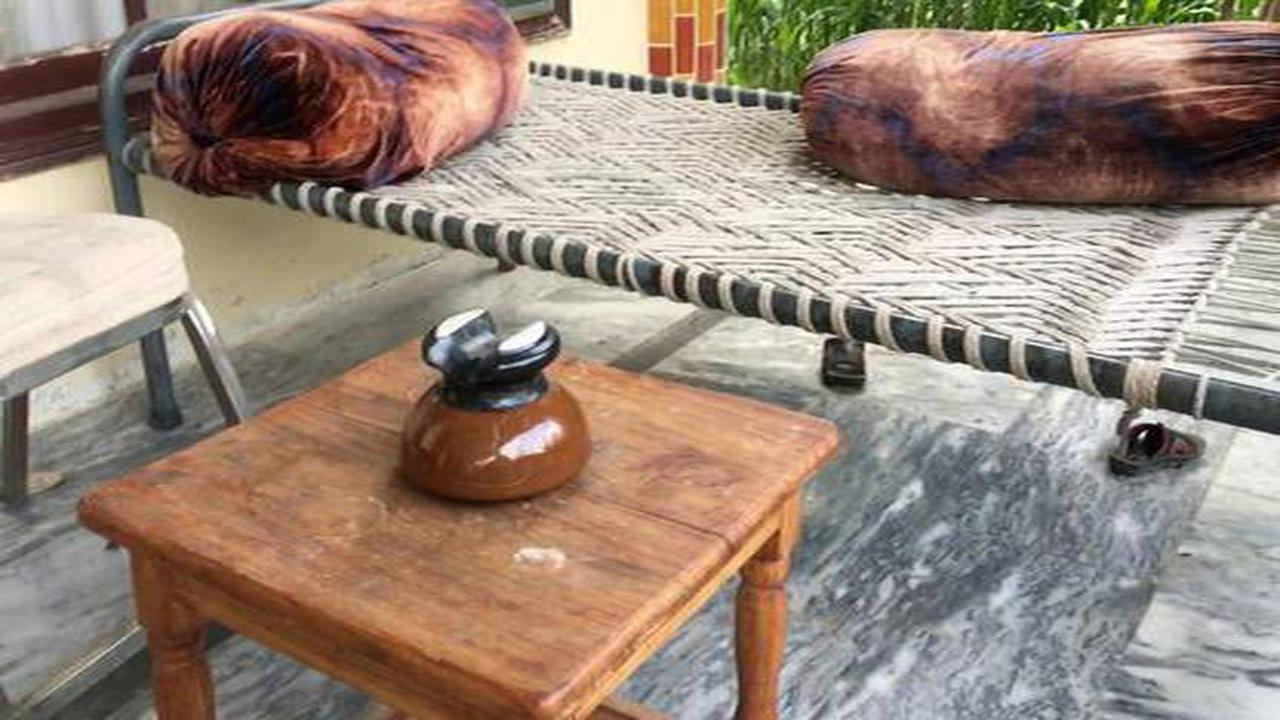insulator_pin: (376, 302, 616, 520)
